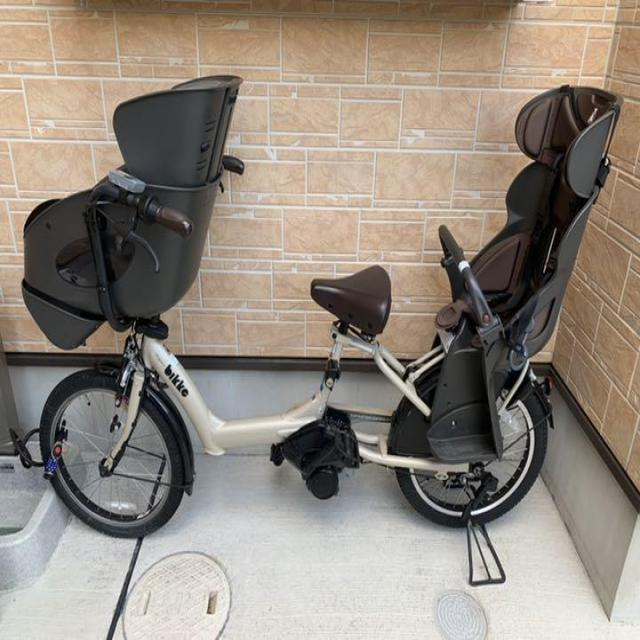childseat: (428, 86, 627, 464), (17, 68, 241, 349)
